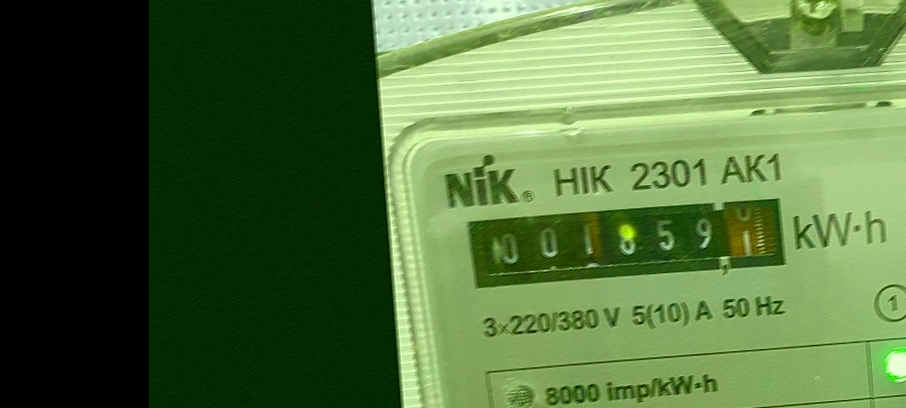0: (498, 232, 520, 269), (537, 226, 558, 261)
1: (580, 223, 594, 259), (739, 228, 753, 260)
5: (653, 218, 676, 255)
8: (615, 222, 637, 259)
9: (692, 217, 714, 252)
screen: (455, 187, 796, 301)
